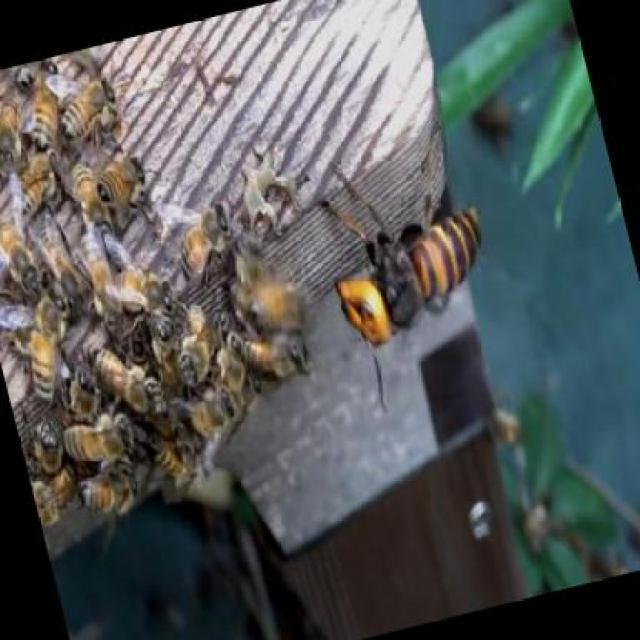Wasp: (329, 157, 484, 356)
